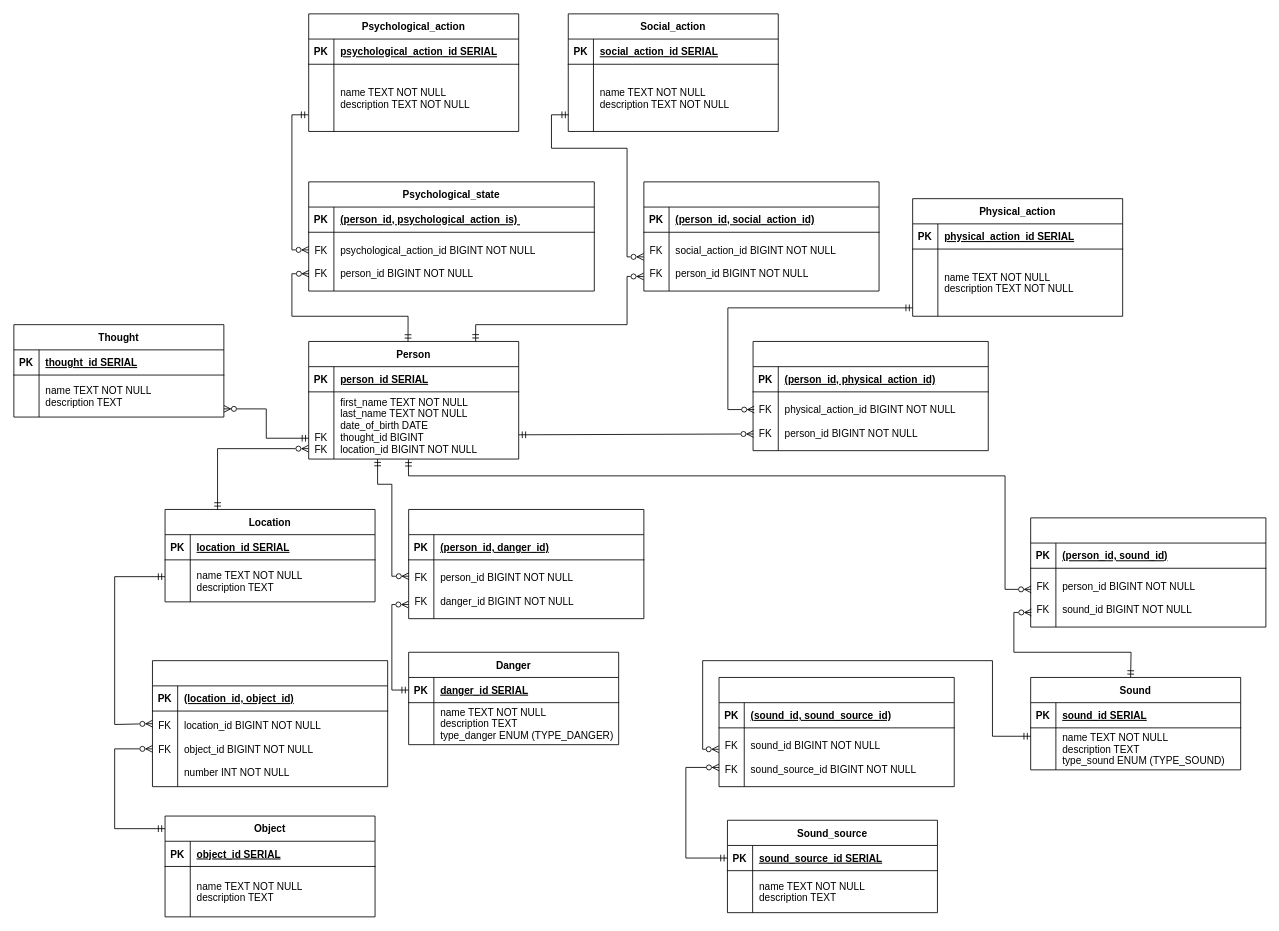
Image size: 1279x931. Some labels were removed from this diagram. The box of each missing label's shape, as (x1, y1, x2, y2) in pixels:
Collision: (408, 509, 644, 619)
Communication: (643, 181, 879, 291)
Object_Location: (152, 660, 388, 787)
Participation: (752, 341, 988, 451)
Reaction_to_sound: (1030, 517, 1266, 627)
Sound_production: (718, 677, 954, 787)
